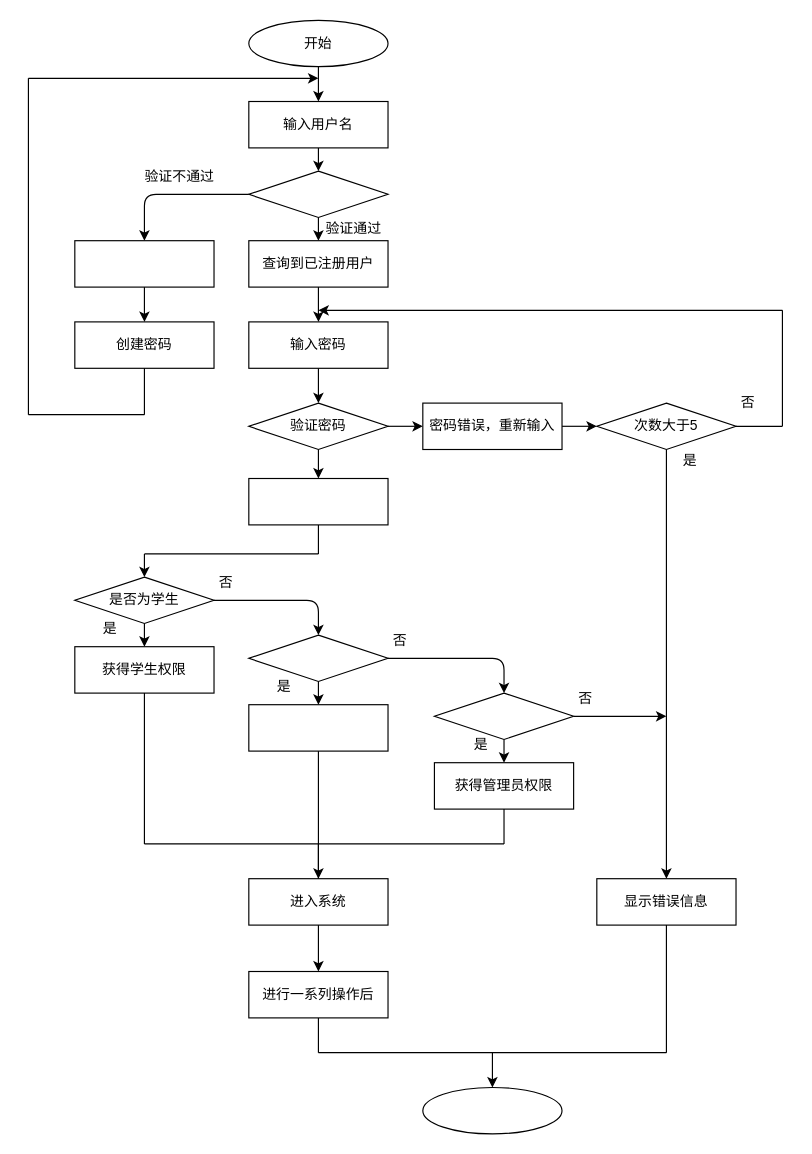
The diagram is 812 pixels wide and 1154 high, and some of its shapes have lost their labels. Here are the shapes that lost their labels. From the top down, the box of each, then its label:
(248, 170, 388, 217): 验证用户名
(74, 240, 214, 287): 注册用户
(248, 477, 388, 525): 密码正确
(248, 634, 388, 682): 是否为老师
(248, 704, 388, 751): 获得老师权限
(433, 692, 574, 740): 是否为管理员
(422, 1086, 562, 1134): 退出程序
